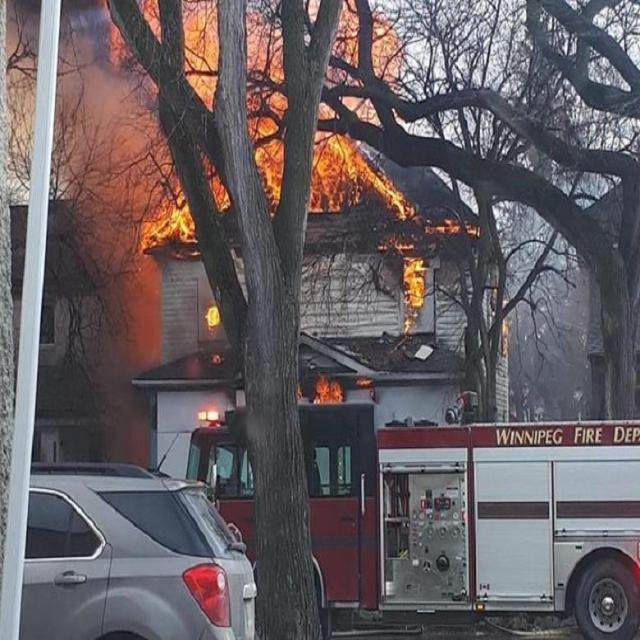Fire: (100, 1, 466, 309)
